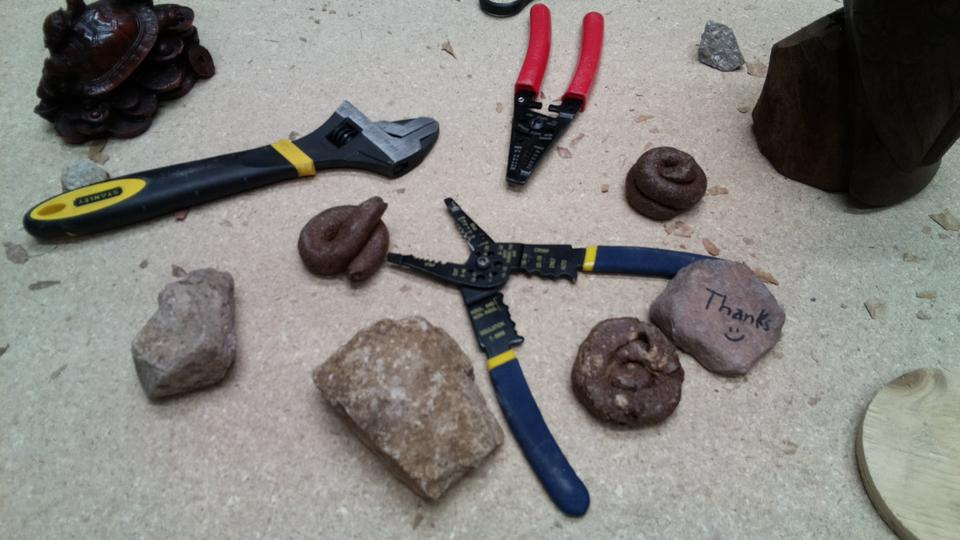poop: (568, 313, 686, 434), (297, 193, 398, 290), (622, 142, 709, 226)
